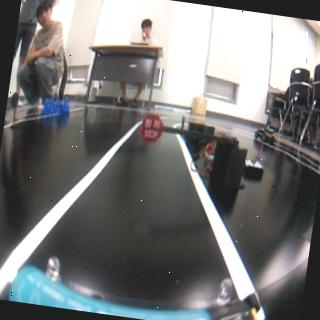stop: (138, 110, 165, 142)
